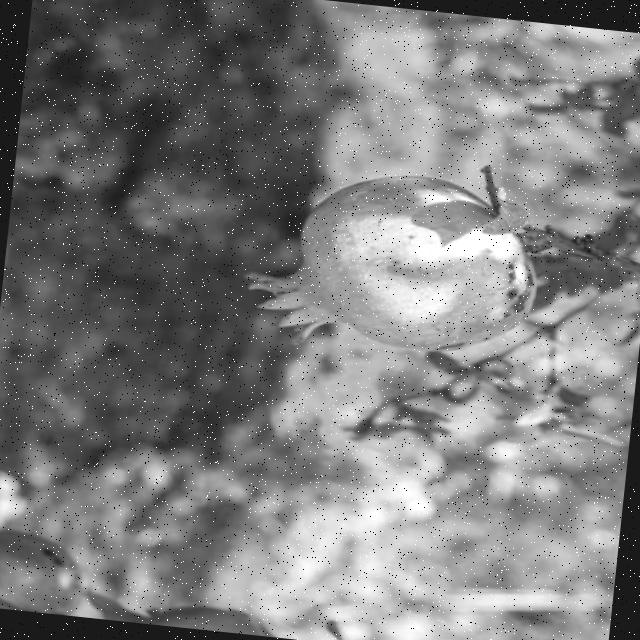Unripe: (237, 155, 550, 366)
